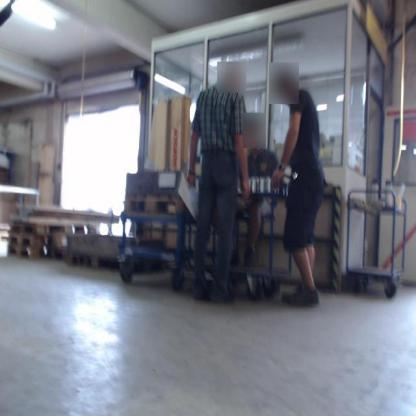pallet: (123, 196, 181, 218), (10, 223, 92, 234), (64, 255, 103, 268), (9, 243, 43, 256), (10, 233, 43, 243)
